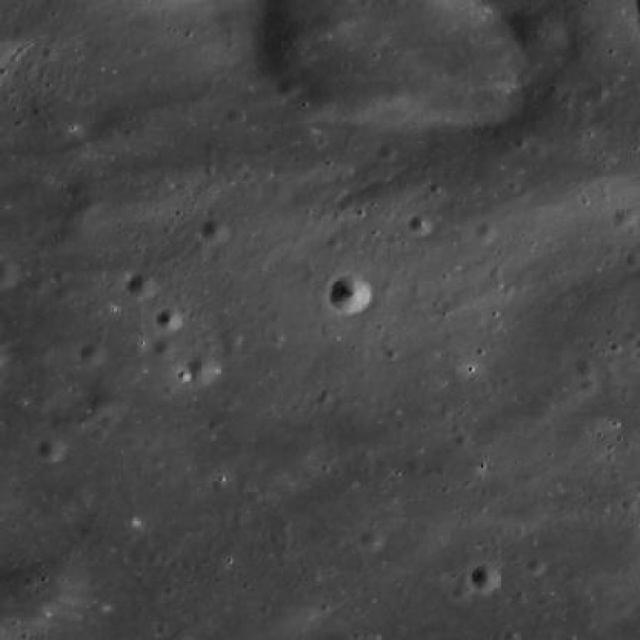crater: (244, 0, 486, 123), (388, 6, 526, 131), (494, 7, 571, 75), (96, 94, 167, 158), (328, 276, 370, 313), (182, 352, 220, 386), (126, 272, 160, 300), (470, 563, 501, 589), (200, 218, 228, 244), (79, 342, 107, 366), (76, 195, 102, 218), (37, 438, 63, 460), (155, 308, 180, 330), (152, 336, 175, 358), (586, 84, 609, 105), (408, 214, 432, 234), (474, 222, 498, 242), (614, 207, 637, 227), (360, 530, 383, 550), (91, 394, 114, 414), (276, 78, 298, 98), (24, 276, 46, 296), (221, 337, 242, 355), (526, 558, 545, 576), (227, 106, 246, 123), (378, 146, 396, 162), (129, 342, 146, 358), (626, 253, 640, 270)
